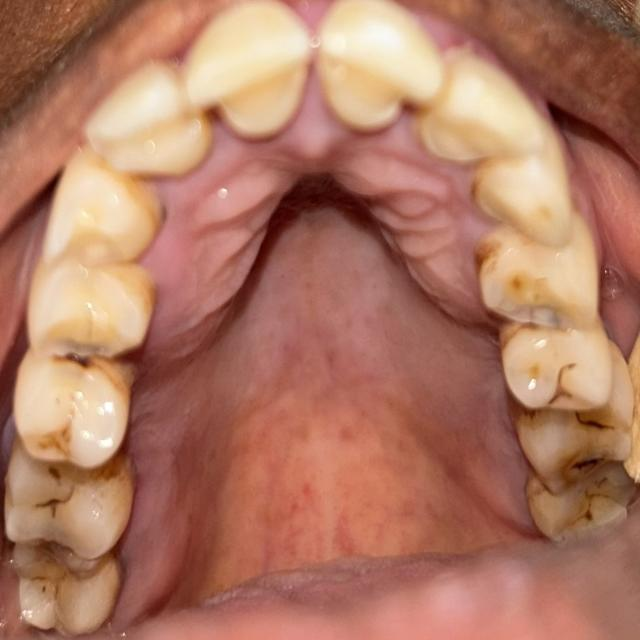processing_area: (103, 78, 536, 639)
